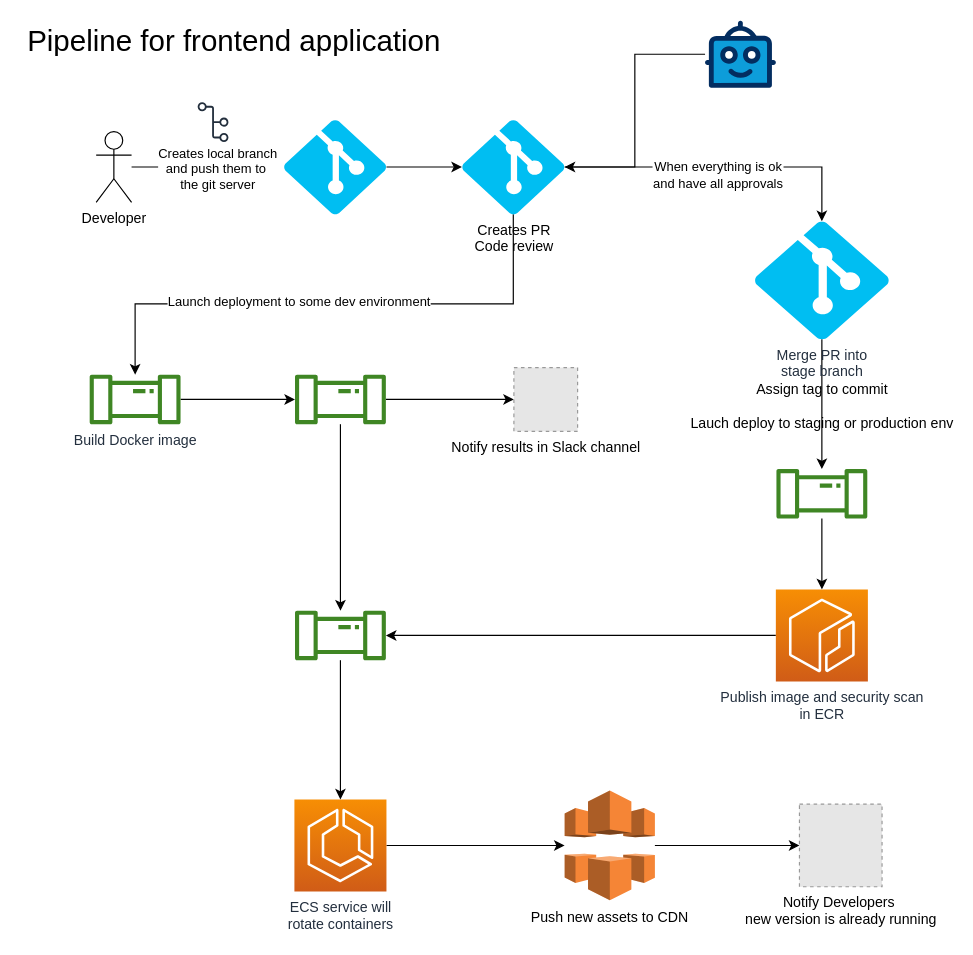
Image size: 973x955. Some labels were removed from this diagram. Grey dashed boxes stand in for pictures. Each missing label, with the centre of its shape:
Build the Docker image and Run integration tests: [821,493]
GIT precommit hook Locally Running Linters - Unit tests: [334,166]
Run integration tests: [340,399]
Run security bot when PR is created: [740,53]
Run Terraform plan to update ECS: [340,635]
